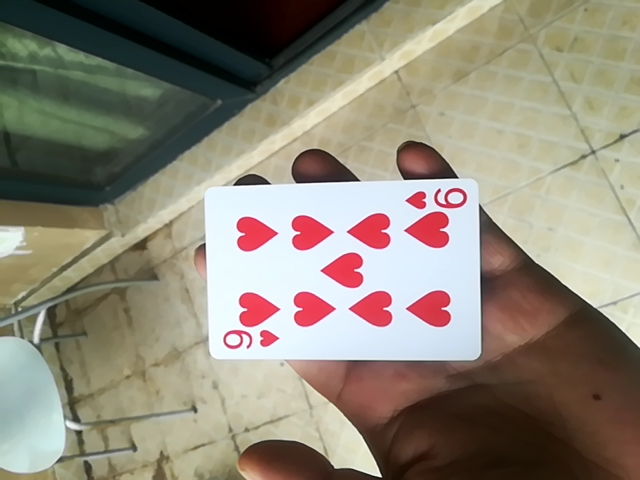hx 9: (203, 174, 482, 358)
